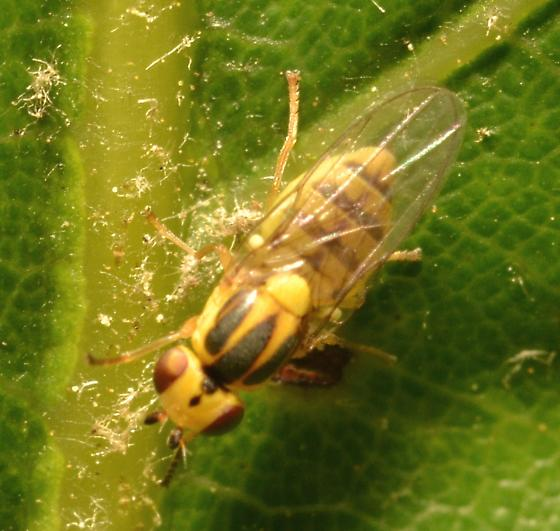Chloropidae: (83, 72, 474, 483)
